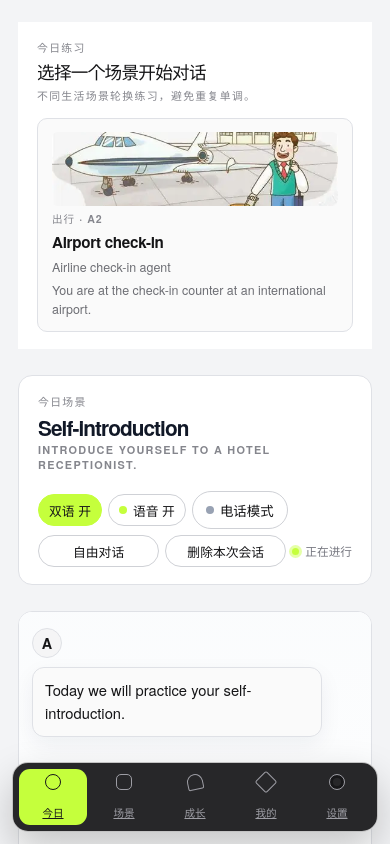
Test case: enters and exits phone mode
This screenshot has width=390, height=844.
Expected: the text "今日场景" is shown, x1=38 y1=394 x2=87 y2=409
What coordinates should you click on to do the following:
click the button with aria-label "开启电话模式"
I would click on:
 (240, 510)
Its box is x1=192 y1=491 x2=288 y2=529.
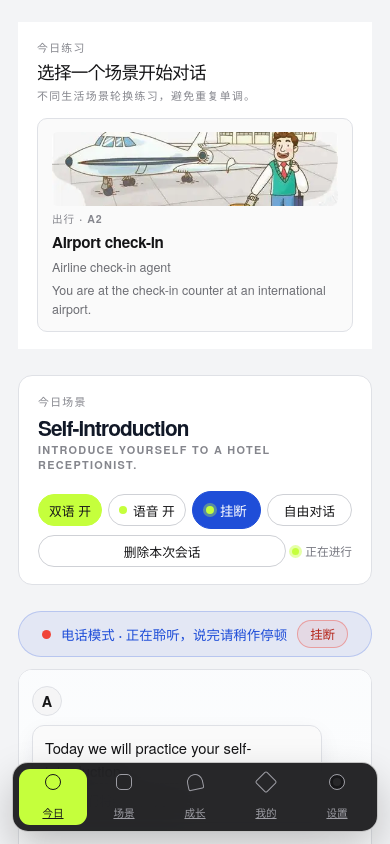
Now the message named "电话模式状态" is shown, box x1=18 y1=611 x2=372 y2=657
Now the text "电话模式 · 正在聆听，说完请稍作停顿" is shown, box x1=61 y1=624 x2=287 y2=644
Note: 挂断：状态条消失
What coordinates should you click on to do the following:
click the button with aria-label "挂断电话模式"
I would click on:
 (226, 510)
Its box is x1=192 y1=491 x2=261 y2=529.
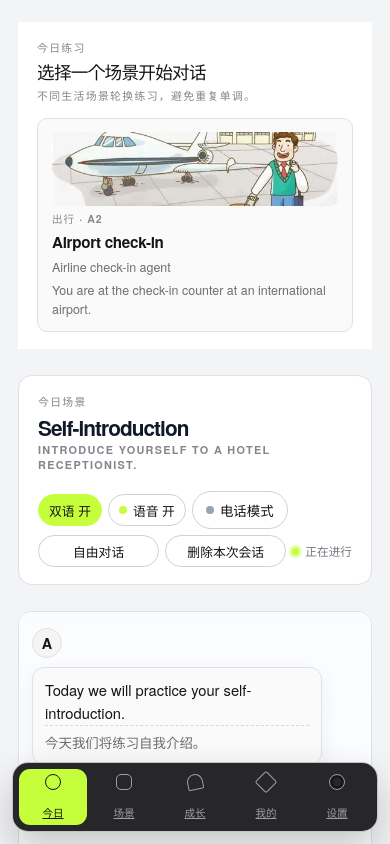
Now the message labelled "电话模式状态" is gone
Now the button with aria-label "开启电话模式" is shown, box x1=192 y1=491 x2=288 y2=529
